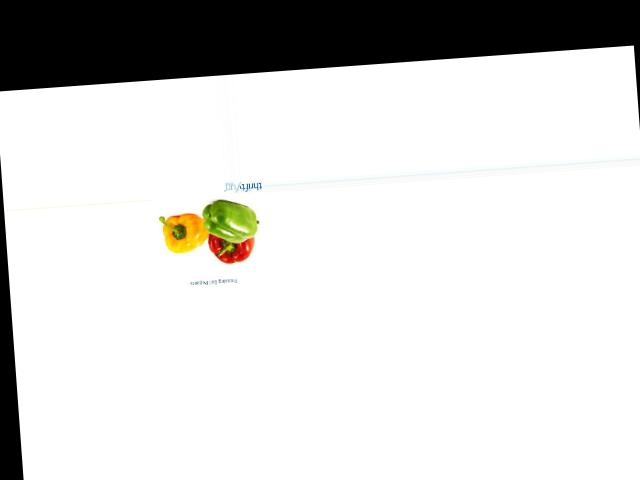bell_pepper: (196, 192, 261, 244)
